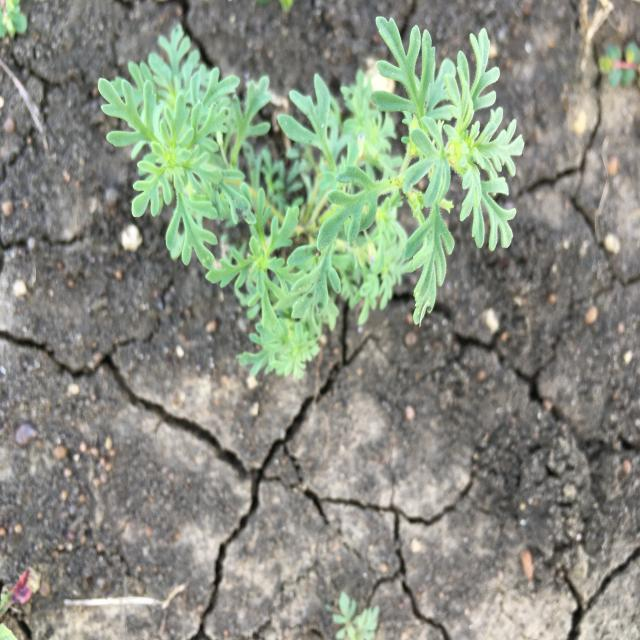Ragweed: (97, 14, 528, 382)
